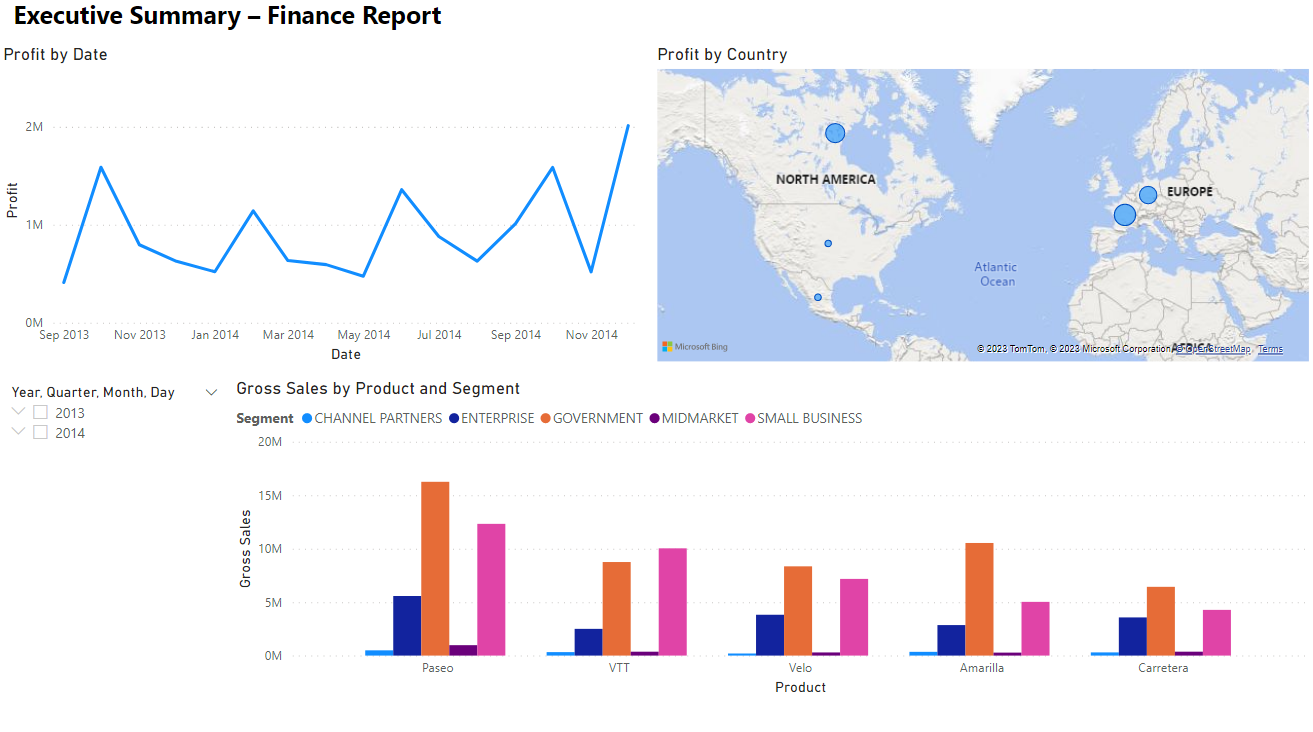

The dashboard page shown, as its layout file describes it:
{"tool":"powerbi","page":{"name":"Page 1","canvas":[1280,720],"ordinal":0},"visuals":[{"type":"textbox","box":[9.7,0,501.9,50.6],"z":0},{"type":"lineChart","fields":{"Category":["financials.Date"],"Y":["Sum(financials.Profit)"]},"box":[0,50.6,643.9,314.2],"z":1000},{"type":"map","fields":{"Category":["financials.Country"],"Size":["Sum(financials.Profit)"]},"box":[636.1,50.6,643.9,314.2],"z":2000},{"type":"clusteredColumnChart","fields":{"Y":["Sum(financials.Gross Sales)"],"Category":["financials.Product"],"Series":["financials.Segment"]},"box":[226.6,375.4,1053.4,313.2],"z":3000},{"type":"slicer","fields":{"Values":["financials.Date.Variation.Date Hierarchy.Year","financials.Date.Variation.Date Hierarchy.Quarter","financials.Date.Variation.Date Hierarchy.Month","financials.Date.Variation.Date Hierarchy.Day"]},"box":[0,375.4,226.6,313.2],"z":4000}]}

Visuals, with their boxes in screenshot pixels (x1, y1, x2, y2), scaled from the page's 1280x720 canvas onto the 1313x732 screenshot:
textbox: 10:0:525:51
lineChart - financials.Date x Sum(financials.Profit): 0:51:661:371
map - financials.Country x Sum(financials.Profit): 652:51:1312:371
clusteredColumnChart - Sum(financials.Gross Sales) x financials.Product: 232:382:1312:700
slicer - financials.Date.Variation.Date Hierarchy.Year x financials.Date.Variation.Date Hierarchy.Quarter: 0:382:232:700
